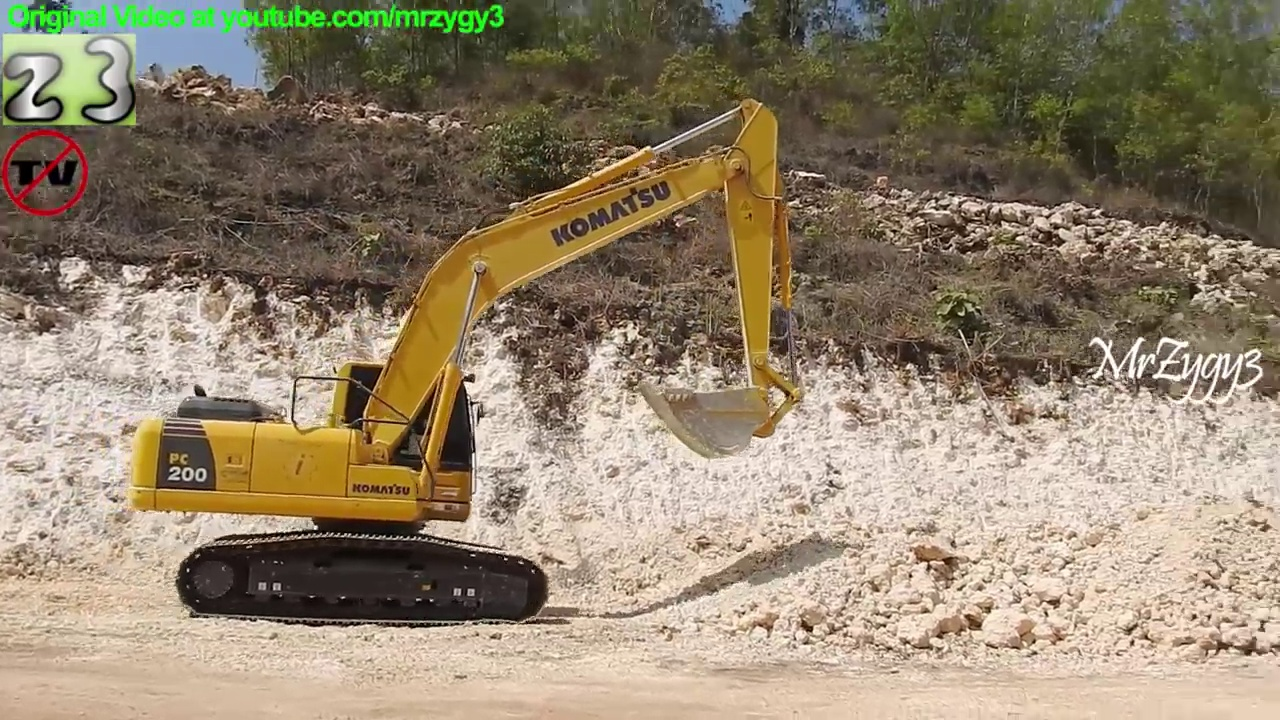excavator: (122, 92, 809, 628)
